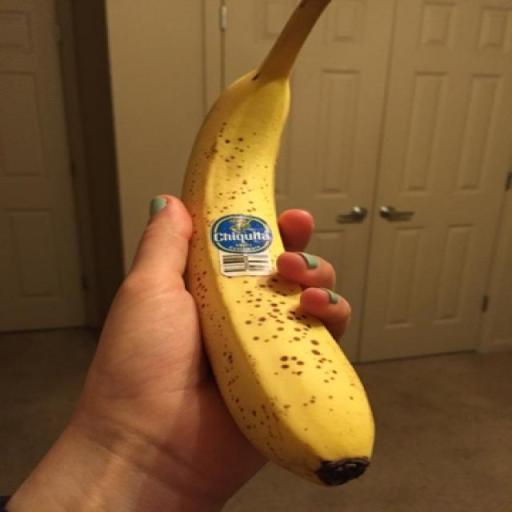fruit: (183, 0, 373, 484)
